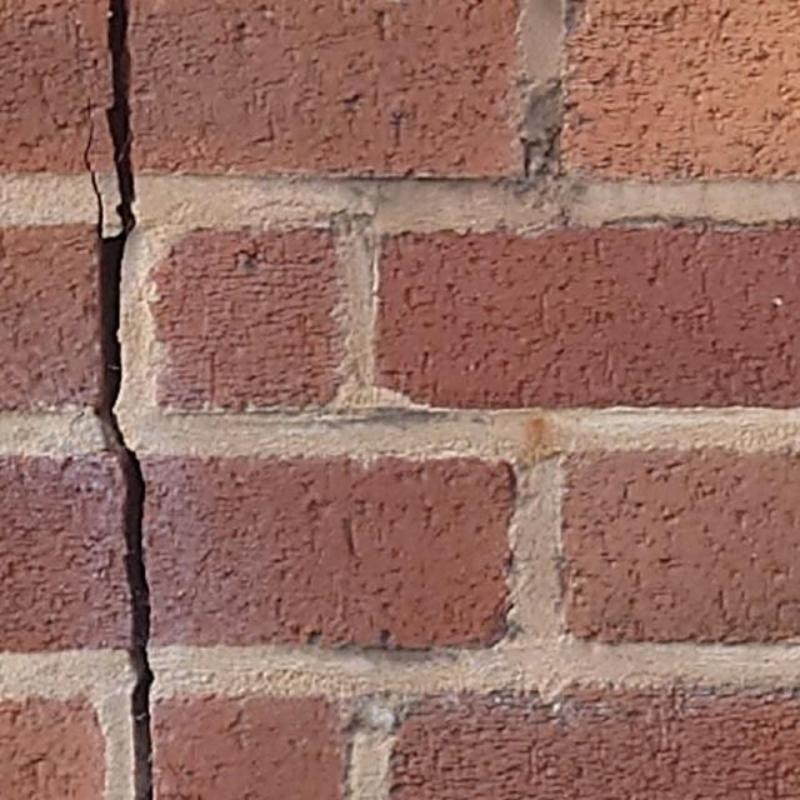crack: (83, 0, 152, 799)
